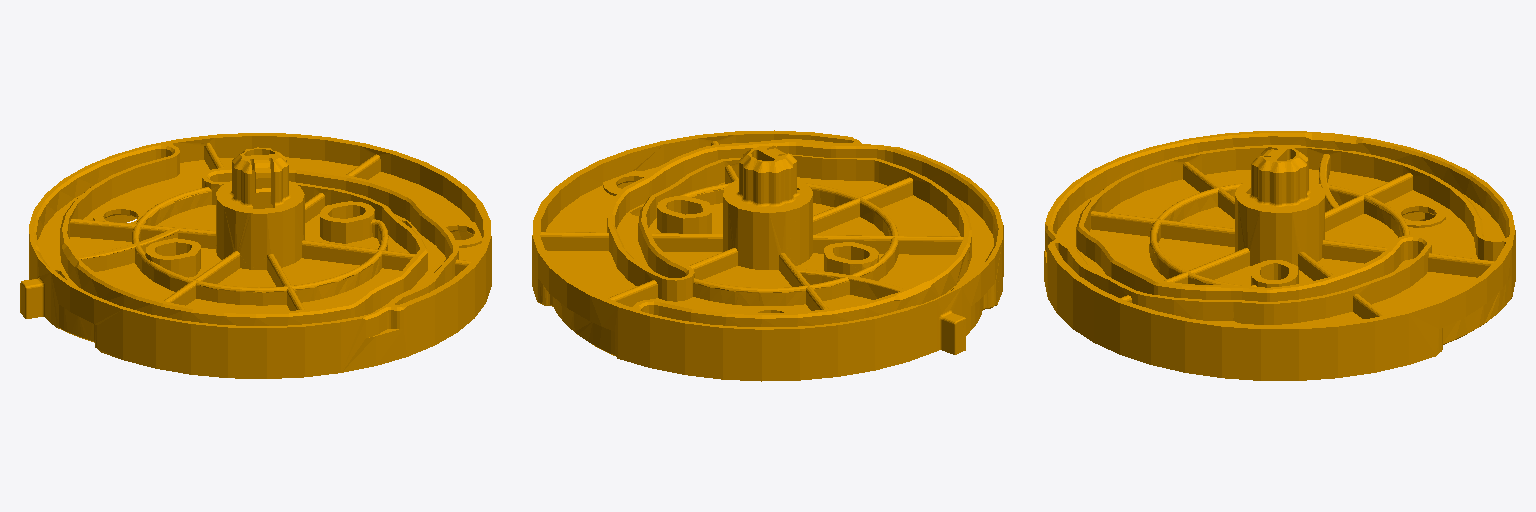
URDF robot description (camera):
<?xml version="1.0" ?>
<robot name="camera" xmlns:body="http://playerstage.sourceforge.net/gazebo/xmlschema/#body" xmlns:controller="http://playerstage.sourceforge.net/gazebo/xmlschema/#controller" xmlns:geom="http://playerstage.sourceforge.net/gazebo/xmlschema/#geom" xmlns:sensor="http://playerstage.sourceforge.net/gazebo/xmlschema/#sensor" xmlns:xacro="http://ros.org/wiki/xacro">
  <link name="object_link">
    <visual>
      <material name="black"/>
      <geometry>
        <mesh filename="package://datasets_generator/meshes/HV8.STL"/>
      </geometry>
    </visual>
    <collision>
      <origin xyz="0 0 0"/>
      <geometry>
        <mesh filename="package://datasets_generator/meshes/HV8.STL"/>
      </geometry>
    </collision>
    <inertial>
      <mass value="0.935"/>
      <inertia ixx="0.0053937" ixy="0" ixz="0" iyy="0.00085311" iyz="0" izz="0.00519899"/>
    </inertial>
  </link>
  <link name="world"/>
  <!-- <!-\- Joint -\-> -->
  <joint name="joint_rgb_kinect" type="fixed">
    <origin rpy="1.57079637 3.14159274 1.57079637"/>
    <parent link="object_link"/>
    <child link="world"/>
  </joint>
  <gazebo reference="object_link">
    <mu1>0.2</mu1>
    <mu2>0.2</mu2>
    <material>Gazebo/Gray</material>
  </gazebo>
</robot>

--- Render facts (derived) ---
The picture shows the robot from 3 angles, left to right: view 1: azimuth 30°, elevation 25°; view 2: azimuth 150°, elevation 25°; view 3: azimuth 270°, elevation 25°; orthographic projection.
Model camera with 2 links and 1 joints (1 fixed), rooted at object_link, posed every joint at zero.
Visible links, largest first — view 1: object_link; view 2: object_link; view 3: object_link.
Boxes of the visible links, x1,y1,x2,y2 form: object_link: (20, 133, 491, 378); object_link: (532, 130, 1003, 381); object_link: (1044, 131, 1515, 380).
Bounding box of the posed robot: 0.094 × 0.091 × 0.0272 m (x, y, z).
Meshes: 1 distinct files referenced, 1 mesh visuals loaded (1 binary STL).